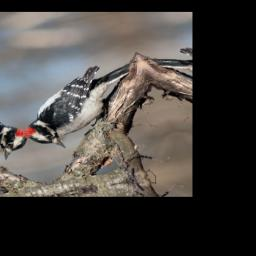Woodpecker: (3, 59, 165, 157)
